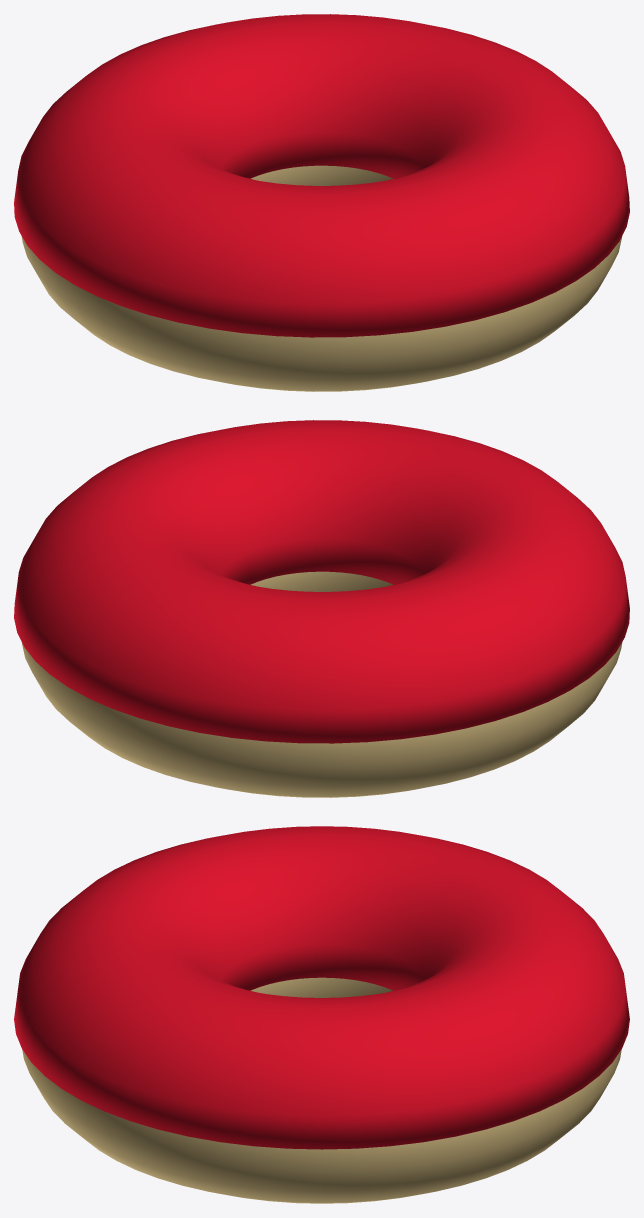
3 views of the same model, one above another, from view 1: azimuth 30°, elevation 25°; view 2: azimuth 150°, elevation 25°; view 3: azimuth 270°, elevation 25° (orthographic).
Visible parts, largest first — view 1: Torus.002, Torus.001; view 2: Torus.002, Torus.001; view 3: Torus.002, Torus.001.
Boxes of the visible parts, x1=… form: Torus.002: x1=14, y1=14, x2=629, y2=337; Torus.001: x1=21, y1=165, x2=622, y2=391; Torus.002: x1=14, y1=420, x2=629, y2=743; Torus.001: x1=21, y1=571, x2=622, y2=797; Torus.002: x1=14, y1=826, x2=629, y2=1149; Torus.001: x1=22, y1=977, x2=621, y2=1203.
Size of the model in its own units: 3.03 by 1.02 by 3.03.
